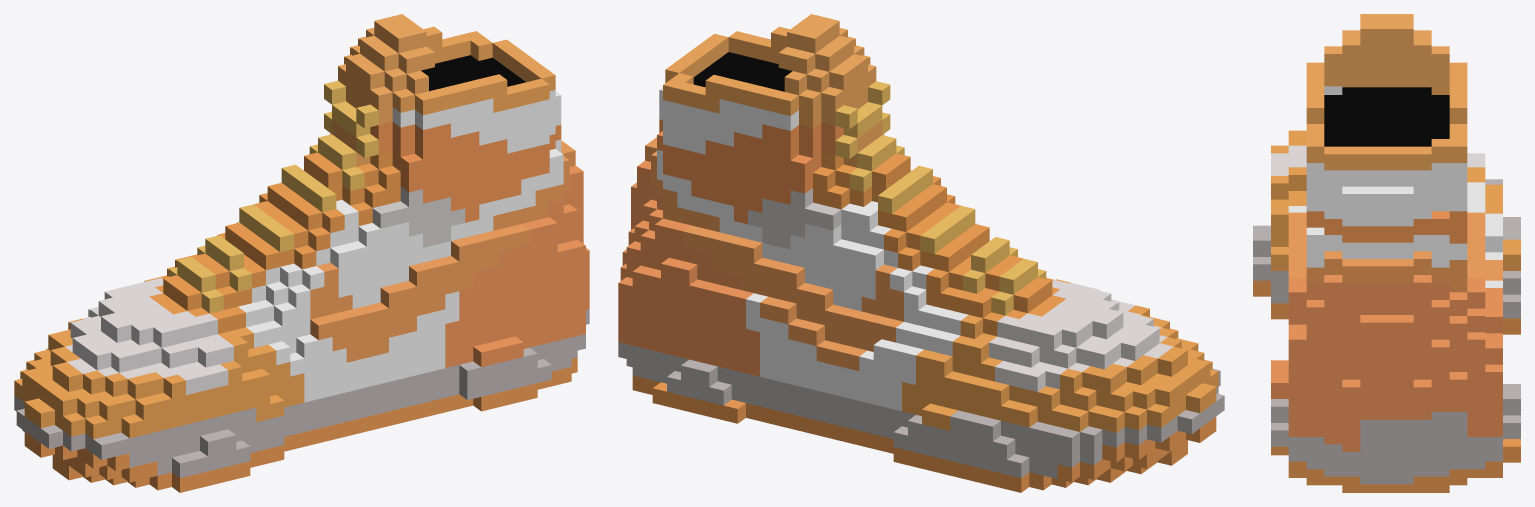
File: Praline.fbx
The picture shows the model from 3 angles, left to right: view 1: azimuth 30°, elevation 25°; view 2: azimuth 150°, elevation 25°; view 3: azimuth 270°, elevation 25°; orthographic projection. The views are drawn at different scales.
Visible parts, largest first — view 1: Untitled; view 2: Untitled; view 3: Untitled.
Boxes of the visible parts, x1,y1,x2,y2 form: Untitled: [14, 14, 589, 492]; Untitled: [618, 14, 1224, 492]; Untitled: [1253, 14, 1520, 492].
Bounding box in the file's own units: 390 × 240 × 150.
